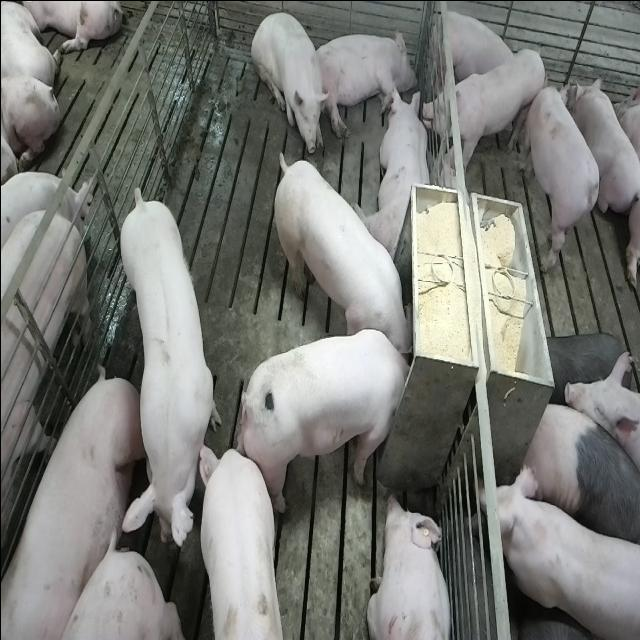Feeding: (243, 327, 420, 513), (268, 142, 410, 356)
Lateral_lying: (311, 25, 415, 139)
Sitting: (250, 9, 328, 157)
Standing: (0, 191, 90, 640), (115, 186, 220, 568), (494, 463, 638, 640), (521, 394, 639, 568), (202, 448, 288, 640), (420, 48, 548, 175), (523, 80, 603, 258)
Sternal_lying: (365, 490, 453, 640), (360, 84, 432, 264), (574, 75, 638, 222), (428, 5, 516, 93)
